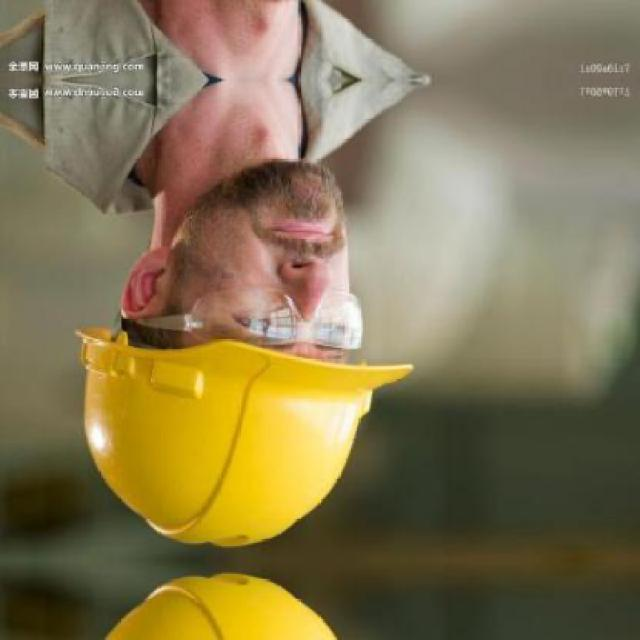con casco: (60, 107, 395, 551)
